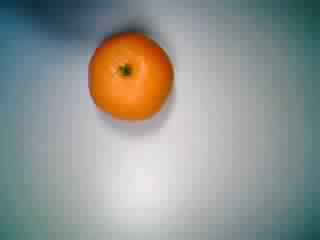orange: (82, 29, 177, 131)
